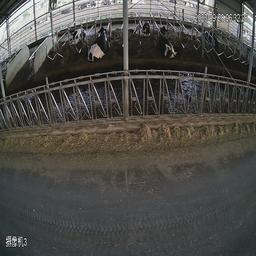cow: (87, 24, 110, 65), (155, 22, 177, 60), (201, 25, 222, 47), (68, 22, 87, 43), (137, 15, 151, 37)
